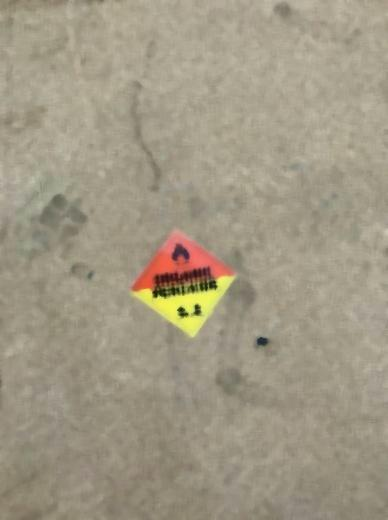organic-peroxide: (127, 230, 235, 336)
